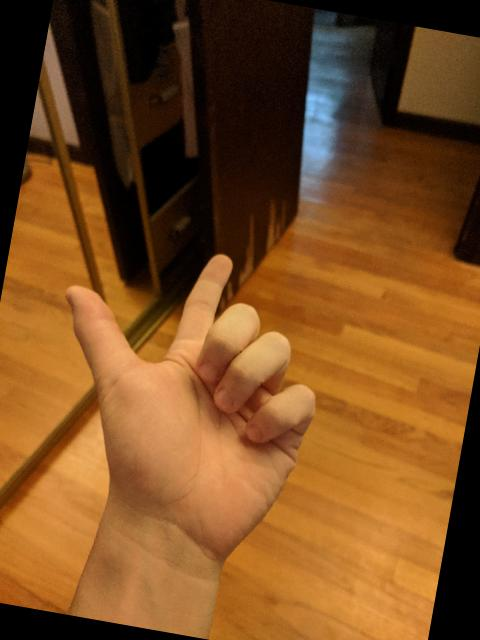L: (19, 220, 347, 570)
